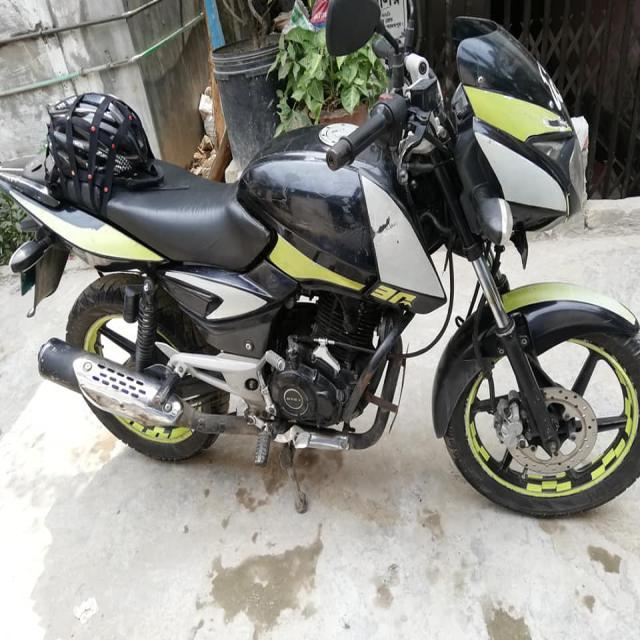Motorbike: (1, 16, 640, 548)
